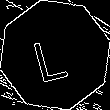L_N: (33, 27, 77, 83)
